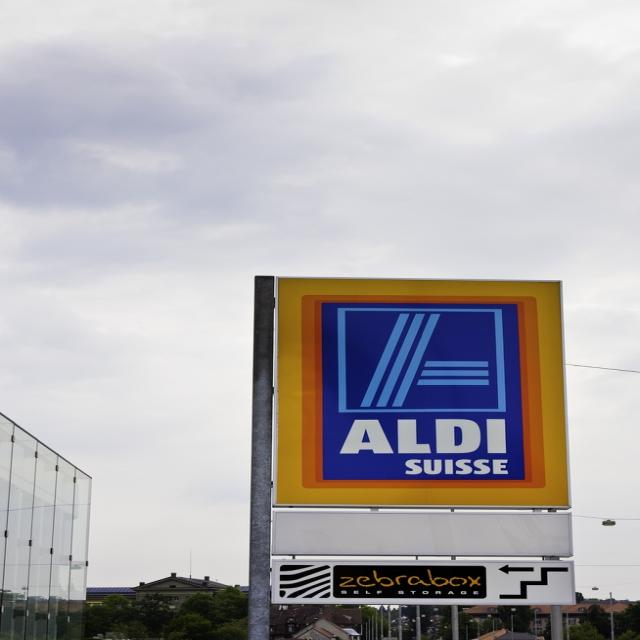aldi: (276, 279, 569, 505)
